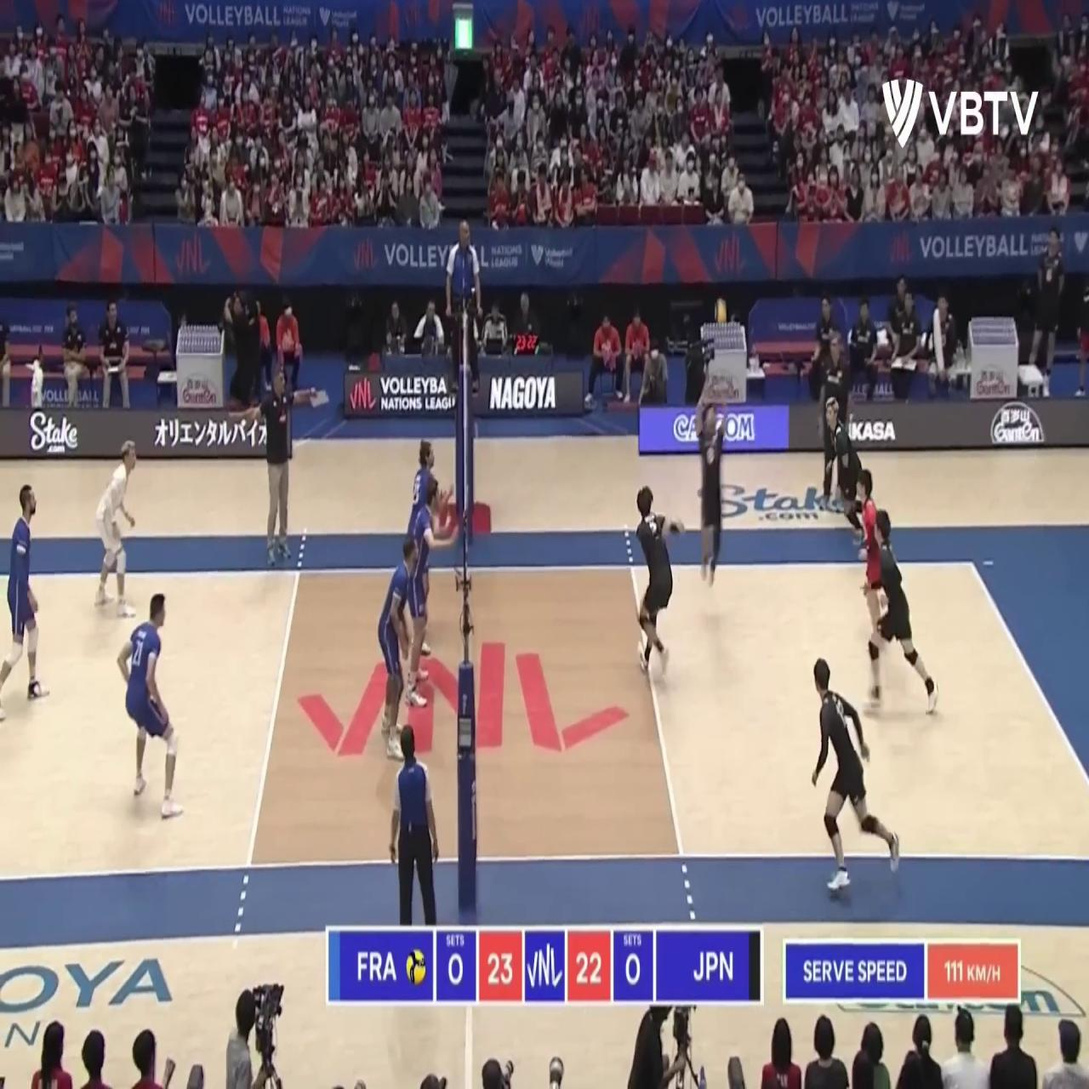ball: (714, 295, 728, 325)
